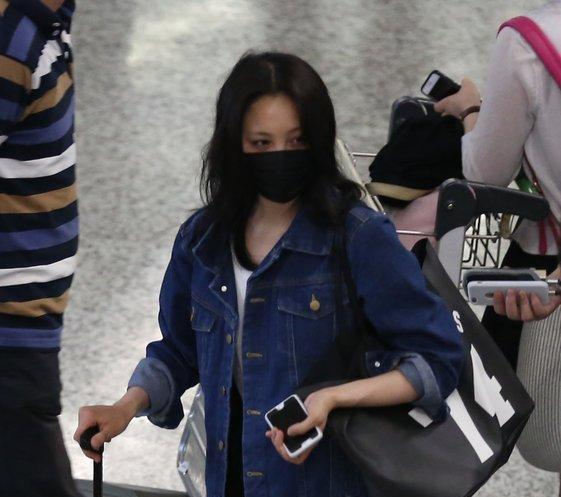OK: (242, 121, 319, 198)
